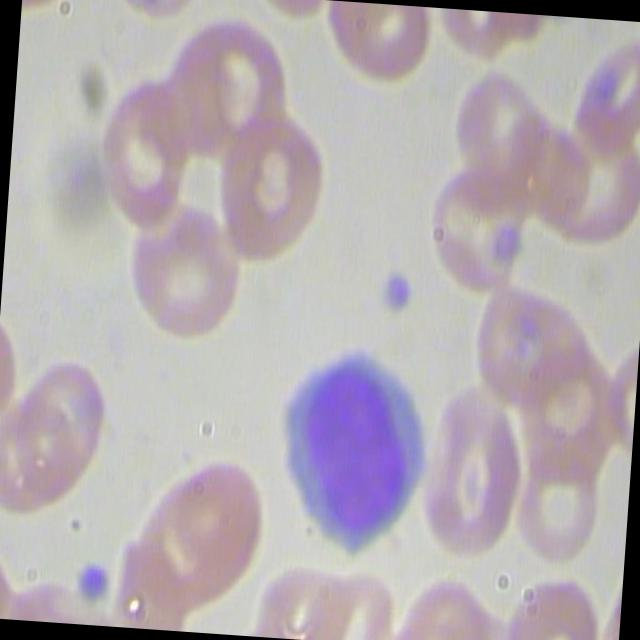Platelets: (374, 262, 421, 316), (72, 556, 114, 605)
RBC: (124, 445, 270, 612), (410, 382, 531, 559), (207, 106, 332, 266), (121, 188, 248, 338), (471, 278, 611, 409), (426, 154, 538, 298), (11, 344, 114, 500), (94, 74, 195, 226), (515, 422, 610, 566), (320, 0, 437, 91)
WBC: (262, 337, 448, 563)
